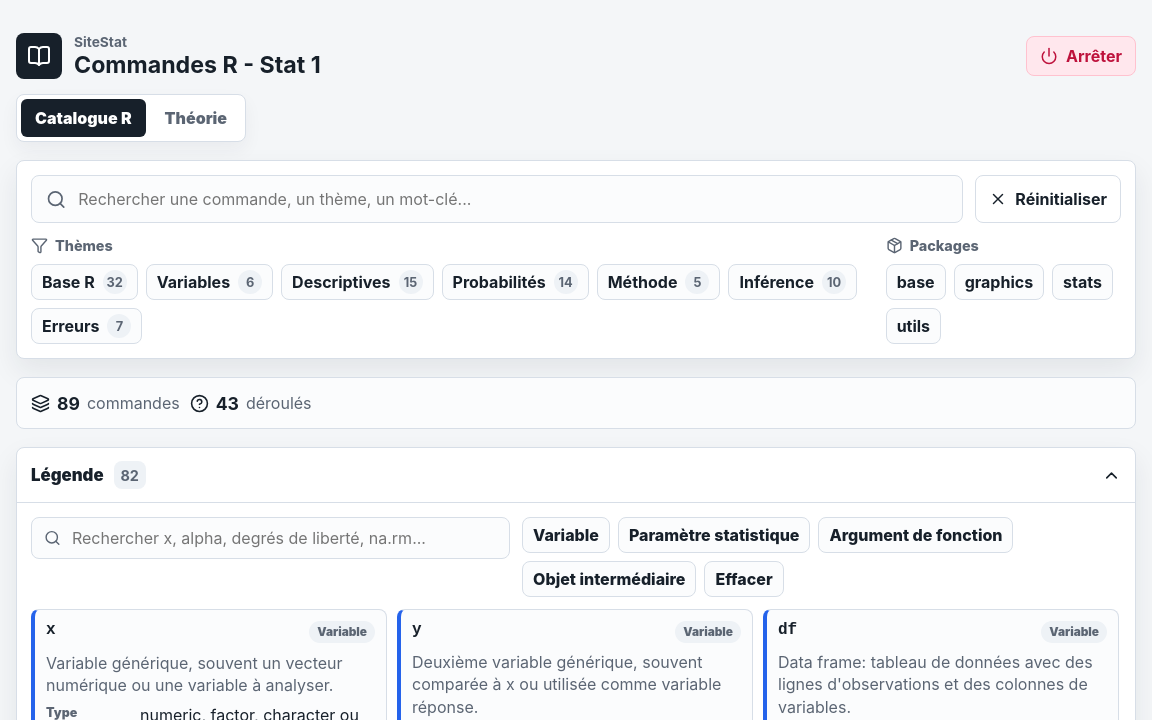
Test case: App › filtre la légende globale
This screenshot has width=1152, height=720.
Type "degrés de liberté" into the search field named "Rechercher dans la légende" at (284, 538), box [70,527,497,549]
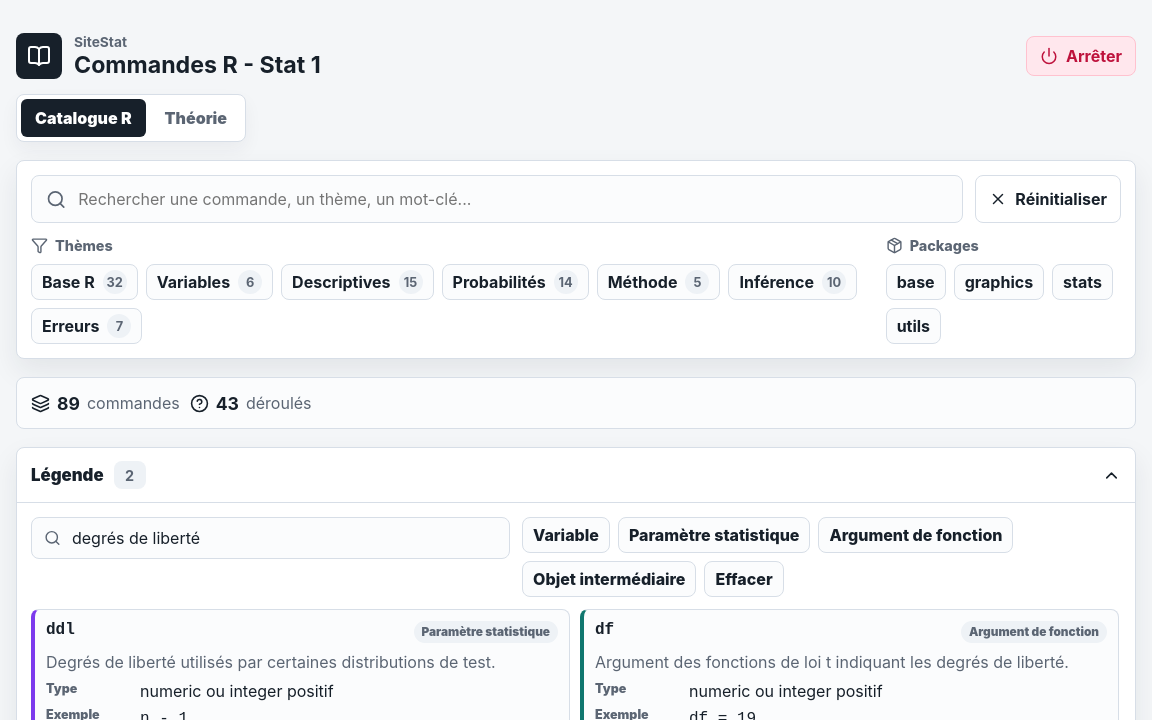
Result: the text "ddl" is shown at [46,621,75,639]
Result: the text "Degrés de liberté utilisés" is shown at [46,652,496,672]
